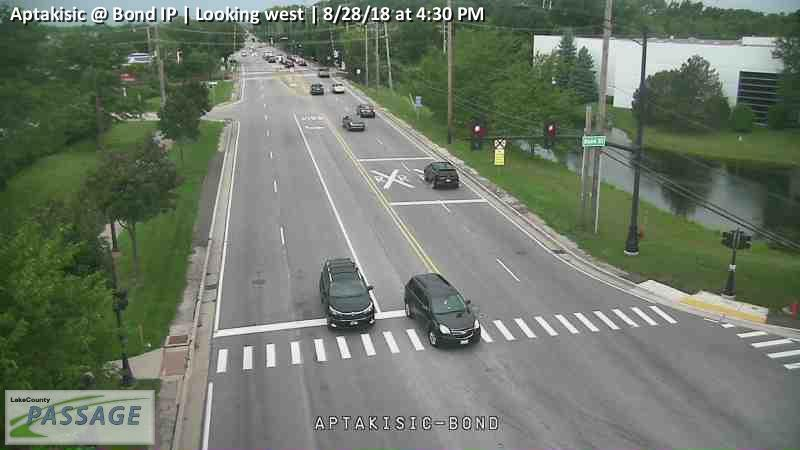SUV: (403, 273, 482, 349), (321, 257, 377, 332), (425, 161, 459, 188)
Sedan: (342, 114, 365, 131), (356, 103, 375, 118), (311, 83, 324, 95), (333, 82, 345, 93), (318, 66, 329, 77), (285, 61, 294, 67), (268, 56, 274, 62), (240, 50, 246, 55)
